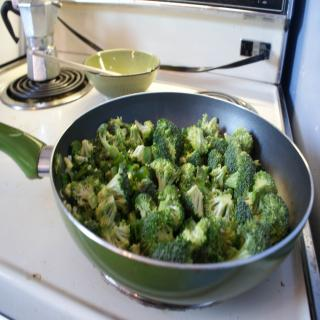Broccoli: (59, 113, 288, 263)
